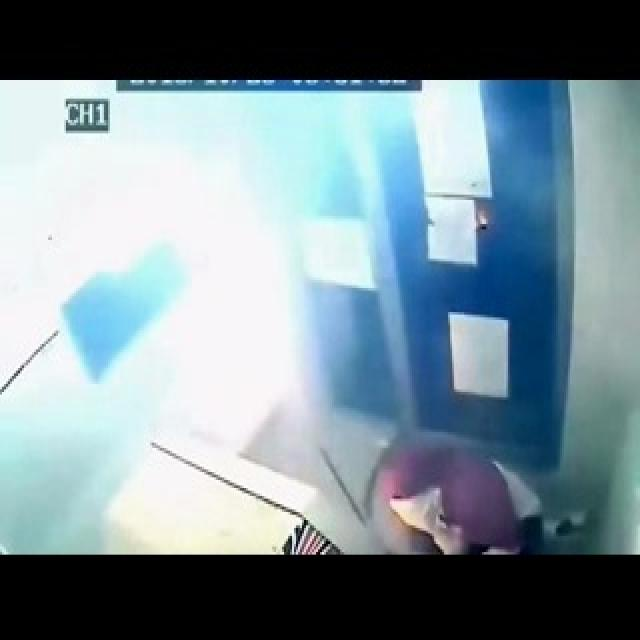thief: (356, 430, 542, 553)
